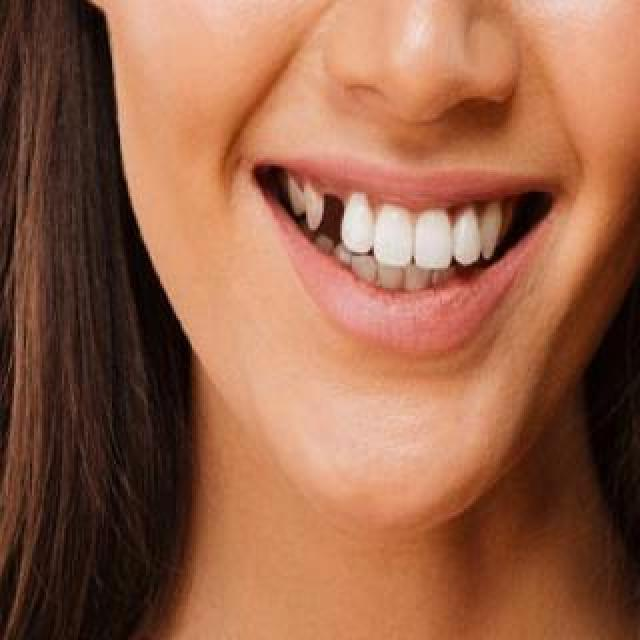maligned: (442, 202, 494, 278)
missing: (312, 197, 344, 241)
